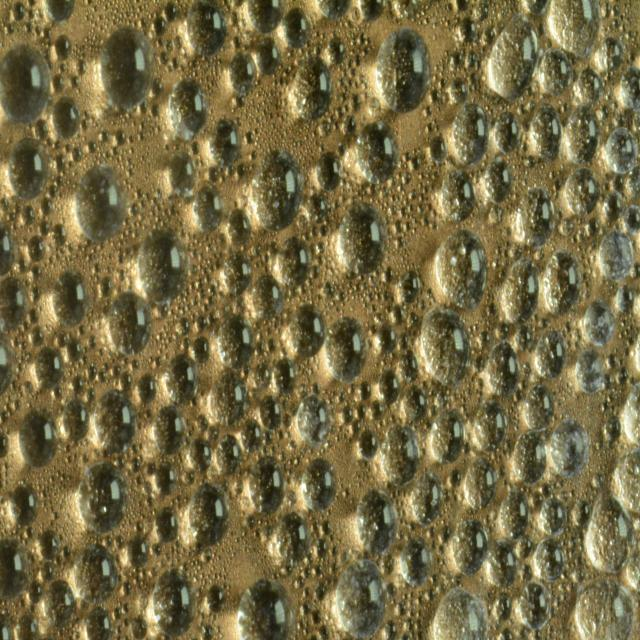dr: (375, 26, 432, 116), (99, 26, 156, 110), (486, 14, 540, 102), (250, 148, 304, 232), (419, 306, 472, 388), (435, 228, 488, 310), (0, 42, 51, 126), (336, 558, 389, 638), (586, 491, 636, 574), (73, 162, 126, 240), (77, 162, 124, 244), (574, 576, 634, 640), (138, 226, 186, 304), (237, 577, 296, 640), (337, 201, 386, 275), (78, 461, 128, 533), (152, 568, 198, 636), (548, 0, 601, 57), (432, 587, 488, 640), (325, 315, 368, 384), (94, 388, 137, 455), (108, 291, 153, 355), (73, 542, 118, 606), (356, 118, 398, 186), (291, 52, 332, 121), (543, 246, 582, 318), (356, 489, 398, 555), (501, 257, 542, 324), (188, 482, 230, 547), (8, 137, 48, 200), (452, 102, 490, 168), (380, 424, 420, 486), (515, 186, 556, 246), (208, 369, 250, 427), (18, 408, 59, 467), (168, 78, 207, 140), (550, 418, 590, 477), (247, 455, 286, 514), (186, 0, 226, 57), (451, 517, 489, 577), (566, 102, 600, 168), (218, 312, 255, 371), (51, 270, 89, 327), (430, 407, 465, 466), (0, 536, 30, 604), (289, 304, 326, 359), (276, 509, 312, 565), (512, 429, 548, 485), (598, 228, 634, 283), (301, 458, 337, 512), (440, 168, 476, 222), (296, 394, 333, 446), (488, 341, 522, 396), (531, 102, 562, 162), (464, 457, 499, 510), (612, 448, 640, 512), (207, 116, 240, 170), (165, 352, 199, 404), (411, 471, 443, 526), (278, 236, 313, 286), (565, 166, 599, 217), (152, 404, 185, 456), (534, 328, 567, 380), (475, 400, 508, 452), (42, 578, 76, 628), (538, 46, 572, 96), (0, 276, 30, 332), (604, 125, 638, 174), (400, 534, 432, 586), (194, 182, 224, 235), (584, 298, 616, 347), (520, 582, 552, 630), (486, 540, 518, 588), (534, 536, 567, 582), (252, 273, 284, 320), (575, 348, 607, 395), (499, 488, 529, 538), (524, 384, 555, 430), (484, 156, 514, 203), (246, 0, 286, 34), (62, 397, 91, 443), (35, 345, 65, 389), (167, 151, 196, 196), (227, 51, 257, 94), (11, 482, 39, 528), (223, 251, 252, 294), (52, 97, 82, 138), (539, 494, 568, 536), (216, 432, 243, 477), (283, 7, 312, 48), (494, 110, 520, 154), (576, 66, 603, 108), (596, 36, 624, 74), (402, 383, 429, 422), (317, 150, 342, 192), (619, 63, 640, 109), (273, 357, 297, 397), (227, 208, 252, 245), (86, 606, 112, 640), (260, 394, 283, 432), (155, 506, 179, 542), (154, 460, 178, 496), (399, 269, 421, 305), (127, 533, 149, 568), (241, 418, 263, 453), (189, 438, 213, 470), (380, 368, 400, 406), (603, 188, 625, 222), (306, 191, 328, 224), (377, 320, 398, 354), (615, 282, 635, 316), (39, 529, 60, 561), (15, 612, 39, 640), (399, 348, 418, 382), (493, 592, 513, 624), (358, 429, 378, 460), (138, 373, 157, 403), (328, 35, 346, 66), (604, 413, 622, 444), (623, 203, 640, 235), (449, 76, 468, 104), (574, 497, 592, 526), (430, 135, 448, 164), (27, 235, 46, 262), (208, 583, 224, 614), (193, 336, 210, 365), (130, 613, 148, 640), (515, 324, 533, 351), (459, 16, 476, 44), (254, 363, 272, 389), (55, 34, 71, 60), (67, 338, 82, 363), (52, 223, 67, 247), (32, 324, 44, 348), (392, 304, 406, 324), (496, 321, 510, 341), (100, 276, 112, 296), (72, 374, 84, 394), (31, 264, 42, 284)
